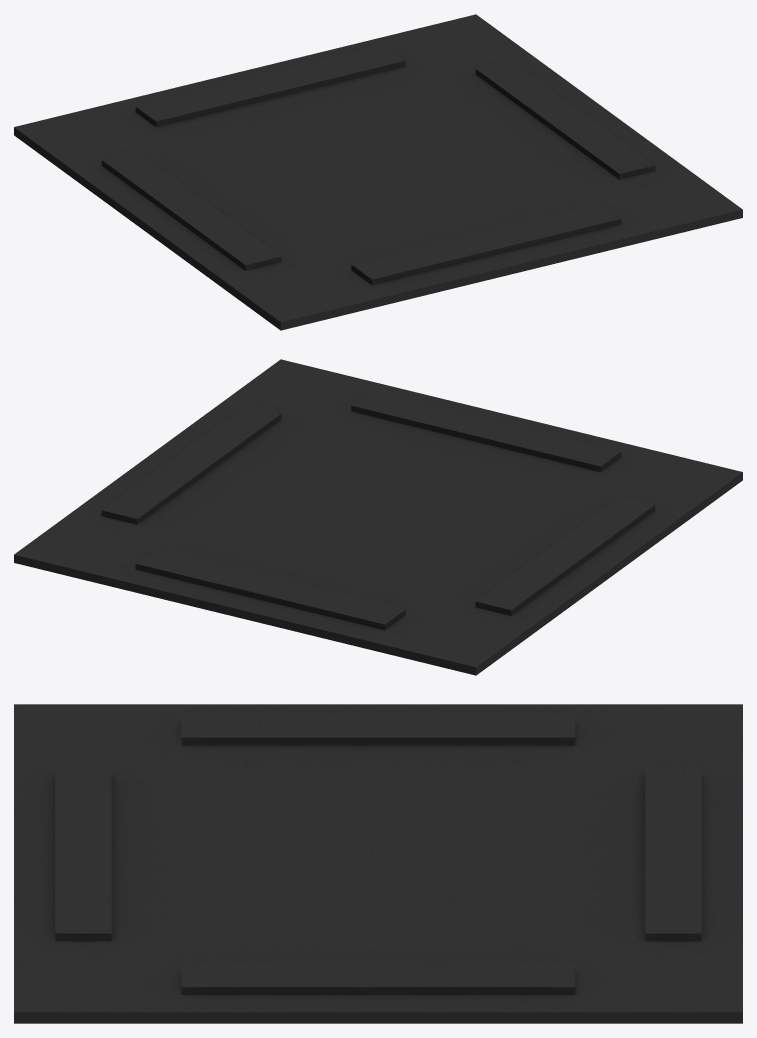
The model's file is aircon05.gltf.
3 views of the same model, one above another, from view 1: azimuth 30°, elevation 25°; view 2: azimuth 150°, elevation 25°; view 3: azimuth 270°, elevation 25° (orthographic). The views are drawn at different scales.
Visible parts, largest first — view 1: Black; view 2: Black; view 3: Black.
Boxes of the visible parts, left/top/right/bottom form: Black: left=14, top=14, right=742, bottom=330; Black: left=14, top=359, right=742, bottom=675; Black: left=14, top=704, right=742, bottom=1023.
Size of the model in its own units: 95 by 6.28 by 95.
Materials: 1 (1 with a texture image).
